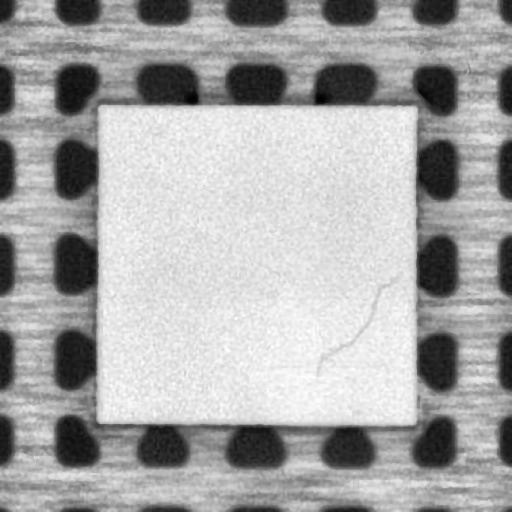DIE_CRACK: (316, 267, 408, 372)
